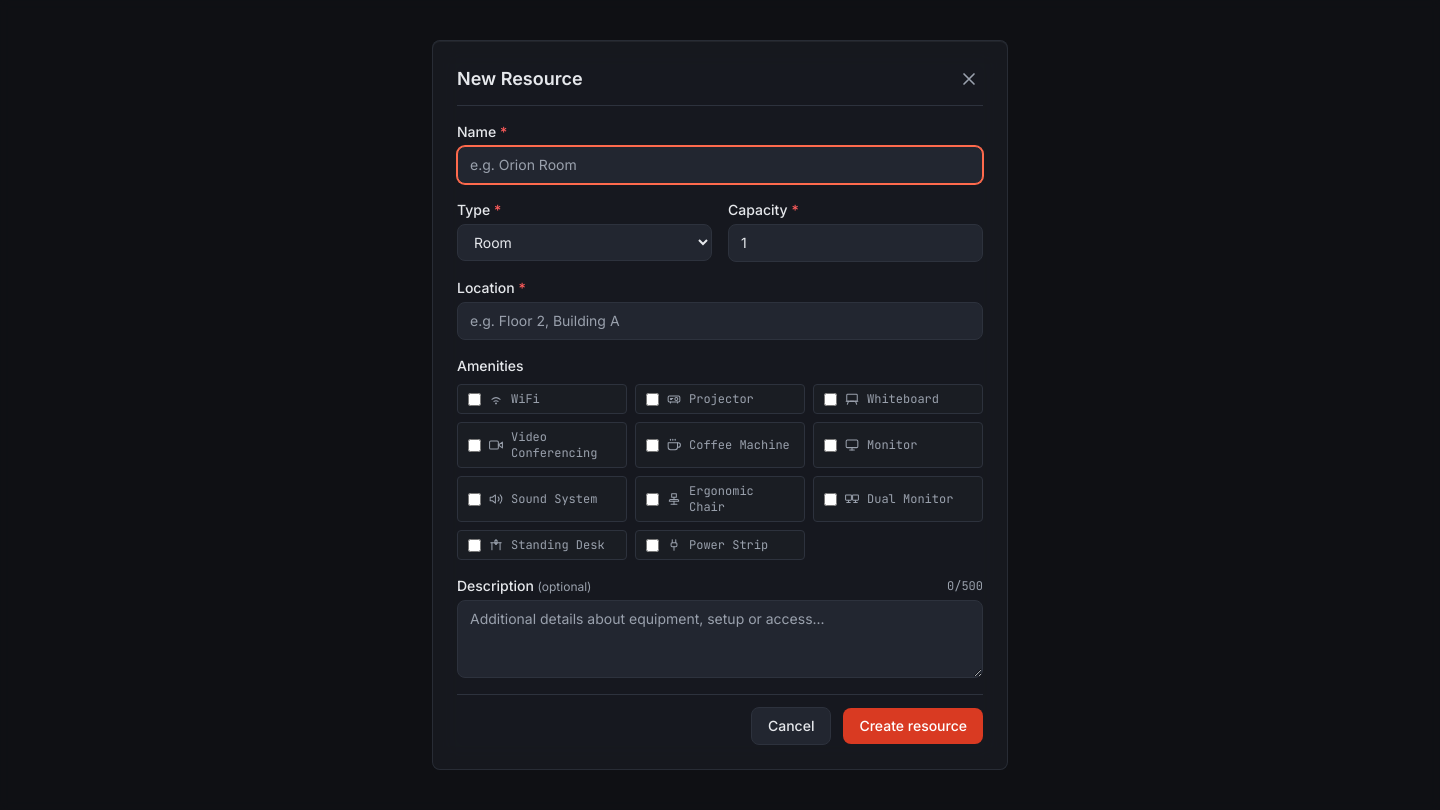
Test: ResourceForm component › displays 400 VALIDATION_ERROR alert banner and maps details to field errors
In the field labelled "Name *": (720, 165) [457,146,983,184], type "Duplicate Room"
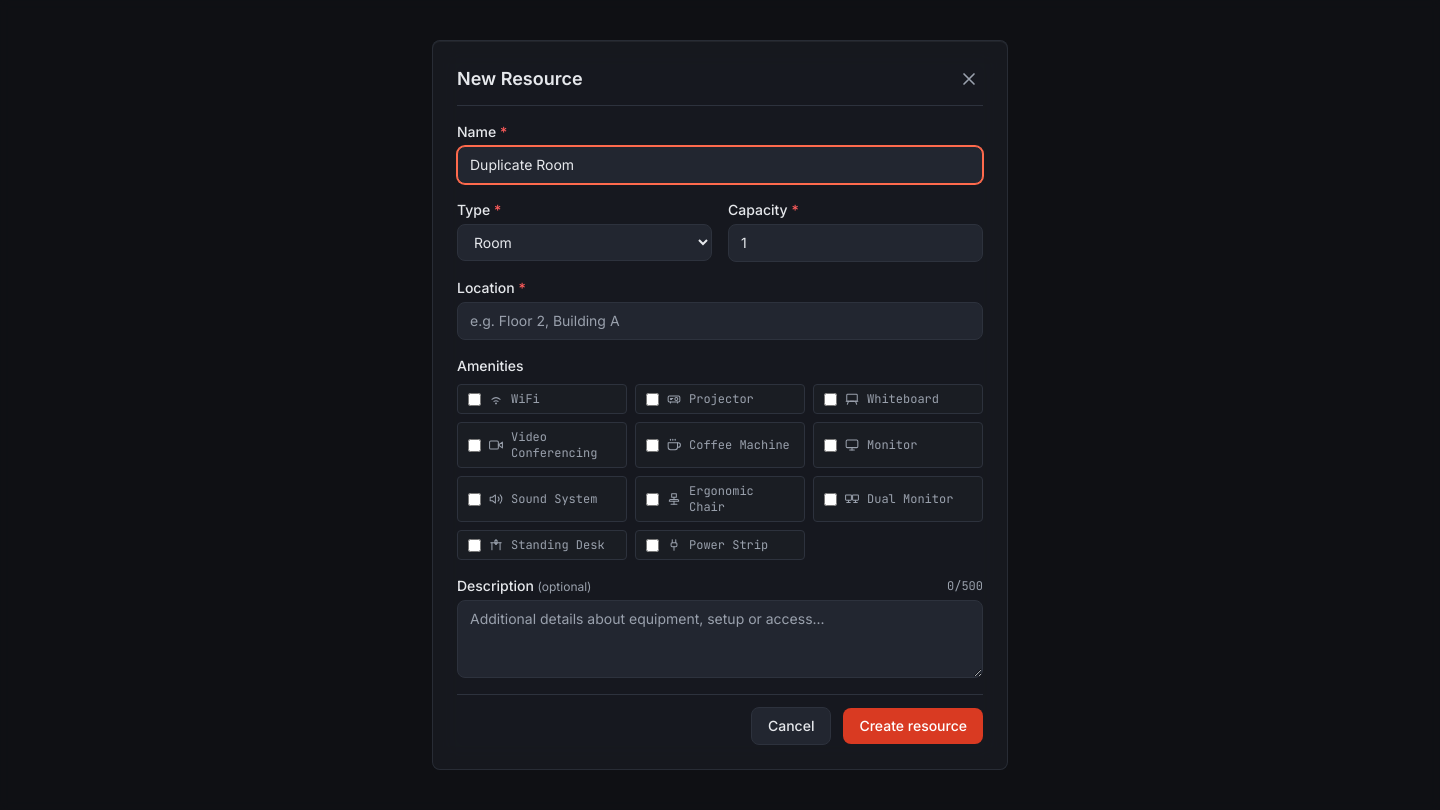
In the field labelled "Location *": (720, 321) [457,302,983,340], type "Floor 1"
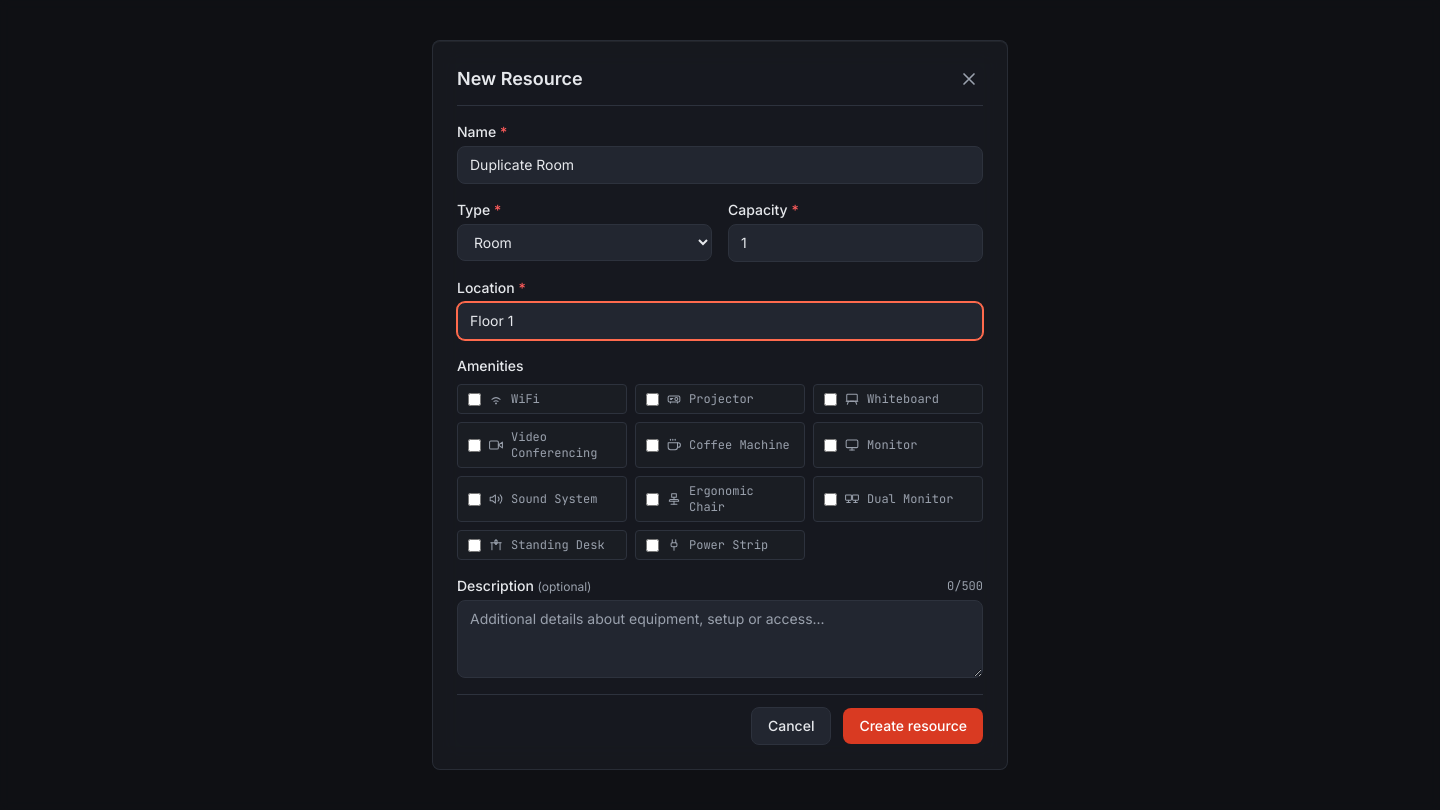
Click the button "Create resource": click(913, 726) [844,708,983,744]
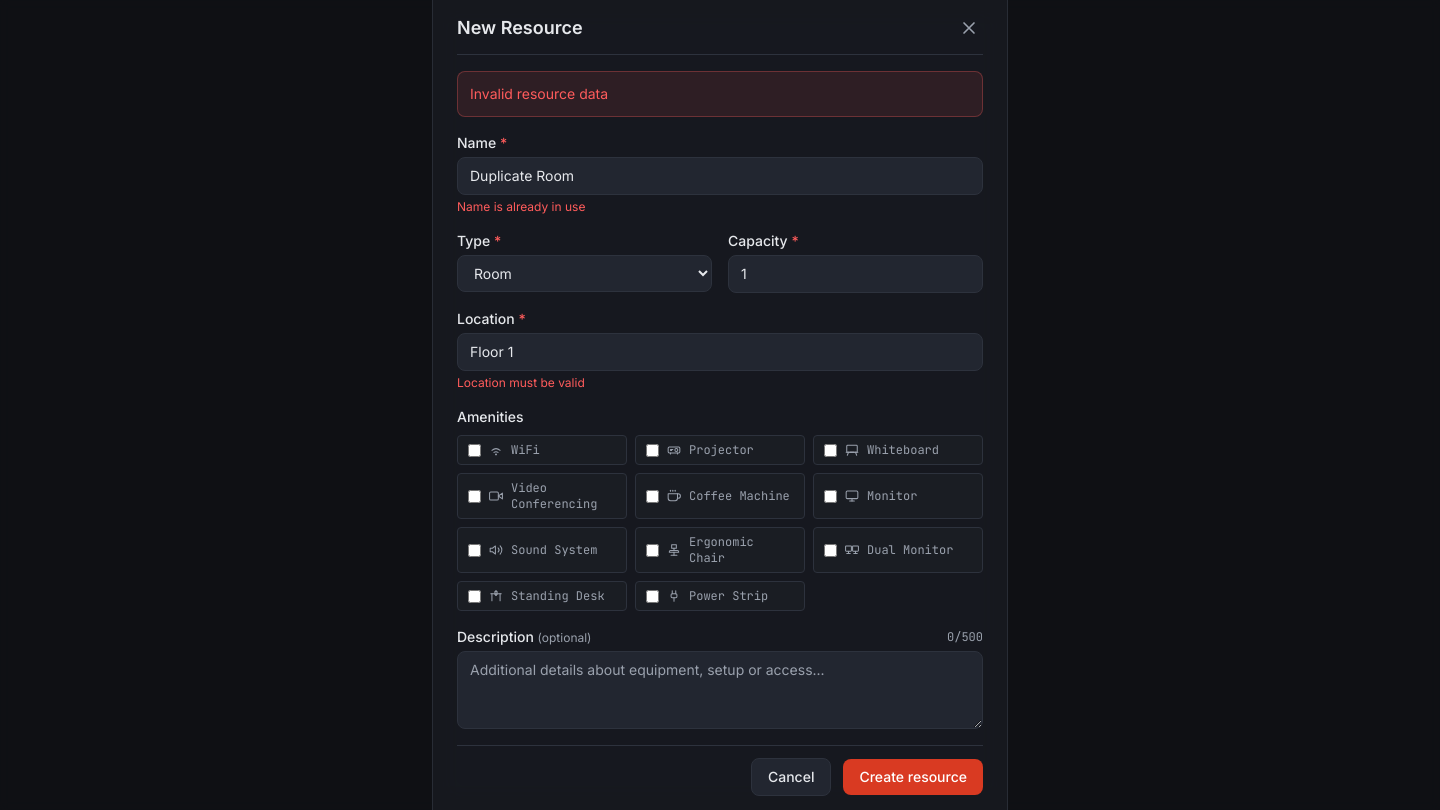
Expected: the message reads "Invalid resource data", [470,85,608,102]
Expected: the text "Name is already in use" is shown, [457,199,585,214]
Expected: the text "Location must be valid" is shown, [457,375,585,390]
